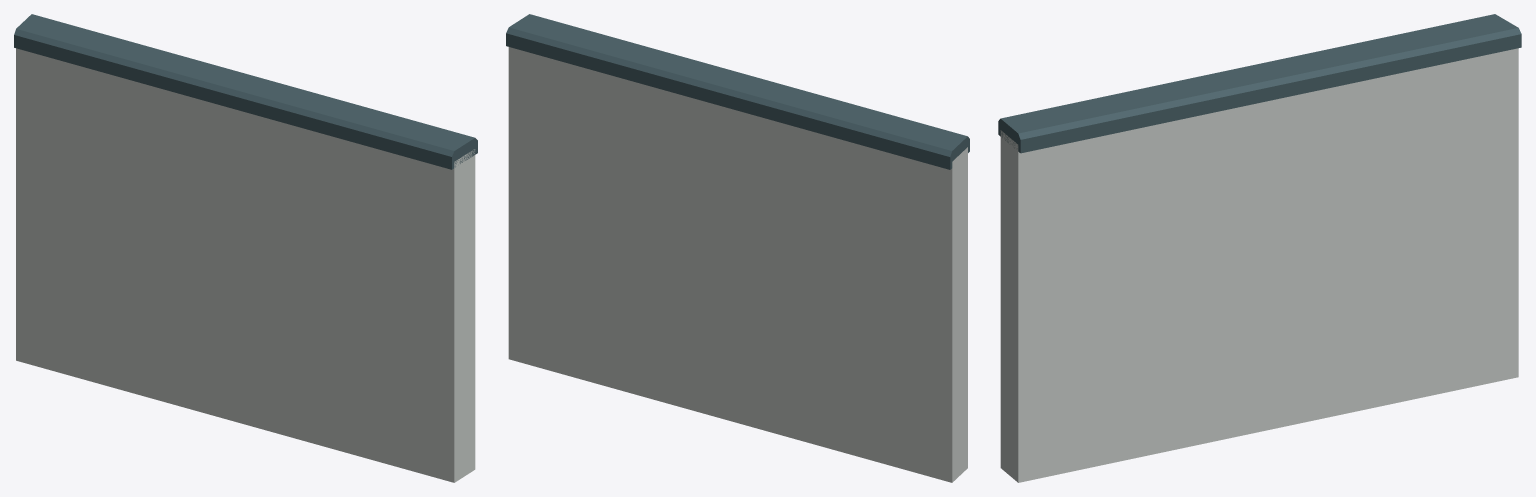
File: halfwall_26_starboard_miter_8944_4472_8219_5924.glb
3 views of the same model, side by side, from view 1: azimuth 30°, elevation 25°; view 2: azimuth 210°, elevation 25°; view 3: azimuth 270°, elevation 25° (orthographic). The views are drawn at different scales.
Visible parts, largest first — view 1: Seamless solid halfwall.055, Seamless top cap.055; view 2: Seamless solid halfwall.055, Seamless top cap.055; view 3: Seamless solid halfwall.055, Seamless top cap.055.
Part boxes in pixels (bbox=[...]): Seamless solid halfwall.055: bbox=[16, 48, 475, 482]; Seamless top cap.055: bbox=[14, 14, 477, 169]; Seamless solid halfwall.055: bbox=[508, 47, 967, 482]; Seamless top cap.055: bbox=[506, 14, 969, 169]; Seamless solid halfwall.055: bbox=[1000, 48, 1518, 482]; Seamless top cap.055: bbox=[998, 14, 1521, 153].
Size of the model in its own units: 0.5858 by 0.775 by 1.05.
